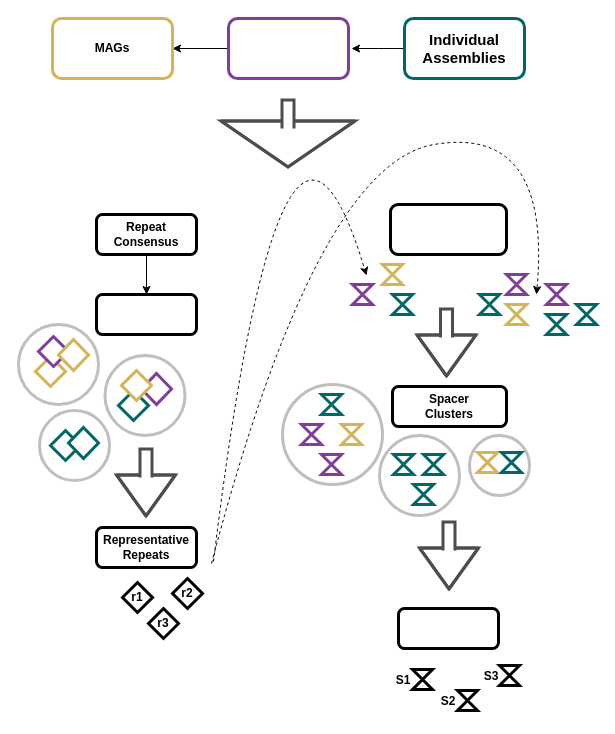
Image size: 615x734. Some labels were removed from this diagram. Here are the shapes that lost their labels. From the top down, the box of each, then its label:
(226, 16, 350, 80): Co-assembly
(388, 202, 508, 256): Repeat-guided Spacer Discovery
(94, 292, 198, 336): Repeat Clusters
(396, 606, 500, 650): Representative Spacers
